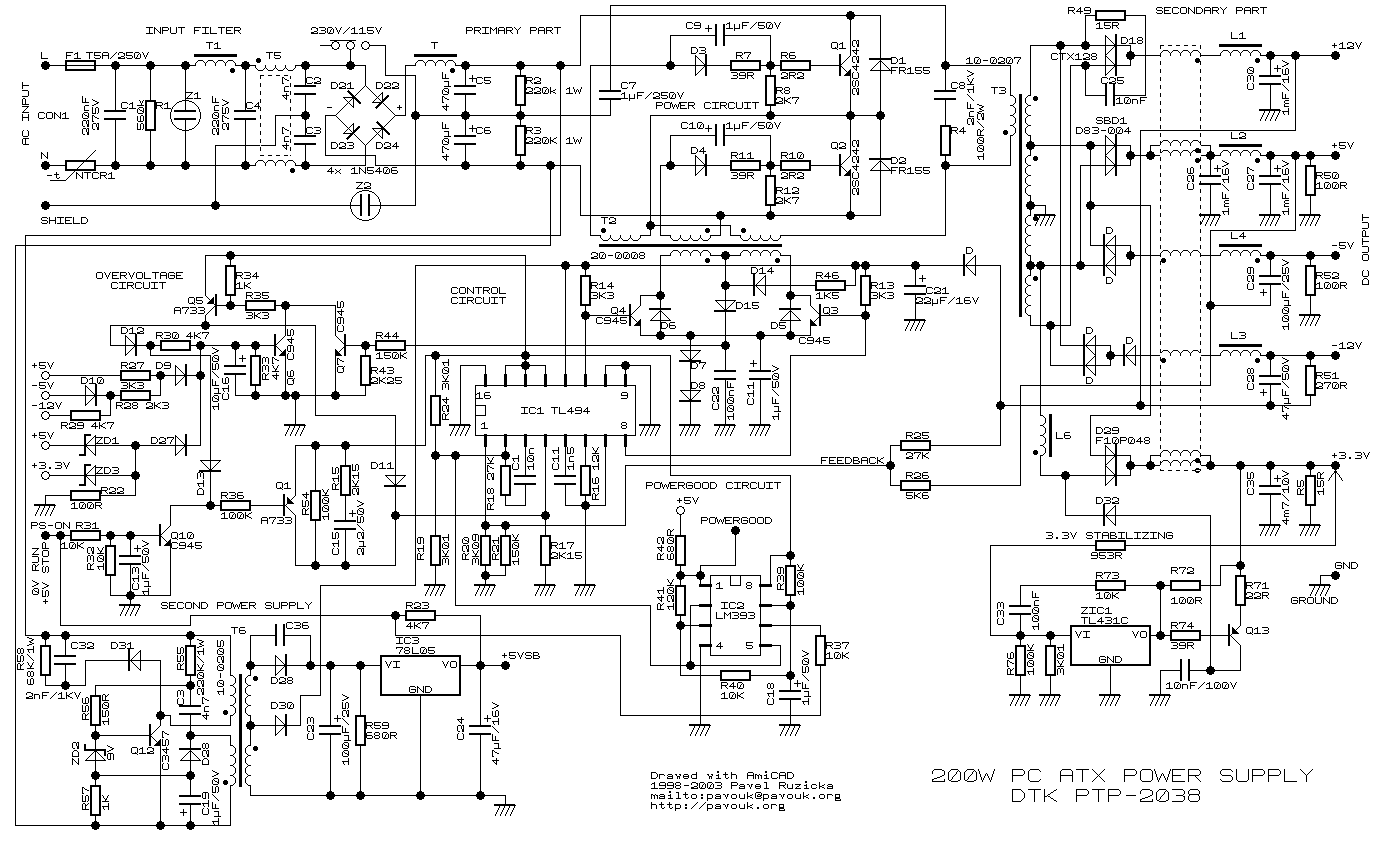C: (450, 77, 485, 101), (99, 104, 130, 131), (895, 279, 933, 298), (709, 20, 732, 51), (450, 129, 484, 149), (594, 84, 626, 105), (710, 363, 740, 383), (744, 361, 768, 385)
D: (687, 46, 718, 83), (75, 380, 102, 410), (691, 147, 712, 184), (171, 425, 192, 462), (771, 305, 807, 326), (119, 328, 144, 358), (704, 295, 739, 315), (680, 383, 708, 408), (747, 271, 774, 296), (171, 358, 191, 391), (366, 89, 393, 112), (648, 302, 677, 323), (677, 347, 706, 368)
L: (735, 224, 788, 244), (242, 741, 260, 788), (410, 55, 462, 71), (225, 669, 240, 717), (665, 229, 715, 243), (192, 58, 238, 70)
OTHER: (1304, 566, 1353, 617)
Q: (829, 43, 858, 80), (832, 149, 858, 186), (804, 300, 831, 333), (198, 285, 223, 320), (325, 328, 351, 360), (266, 327, 291, 359)
R: (574, 270, 600, 309), (509, 121, 534, 158), (511, 72, 533, 111), (221, 262, 242, 301)
U: (465, 374, 644, 448), (701, 568, 769, 659), (1059, 615, 1159, 676), (373, 642, 469, 705)
